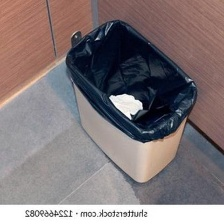tissue: (105, 91, 145, 121)
